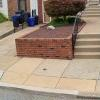stairs: (74, 31, 100, 61), (79, 4, 100, 19)
